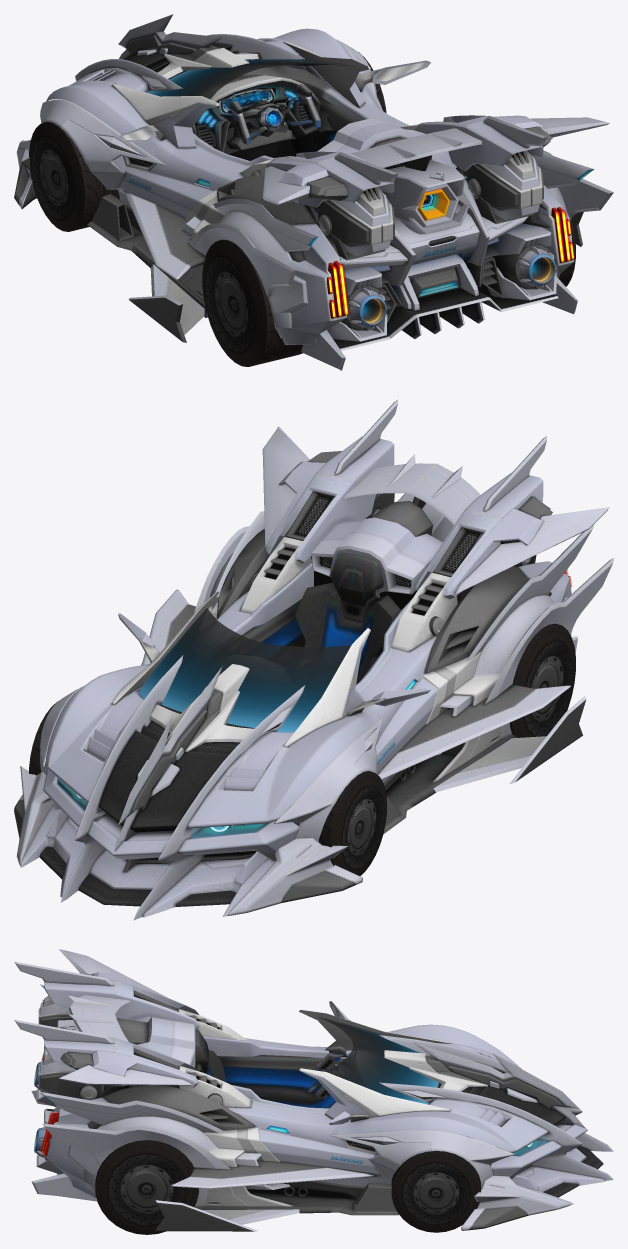
3 renders of one model, top to bottom at view 1: azimuth 30°, elevation 25°; view 2: azimuth 150°, elevation 25°; view 3: azimuth 270°, elevation 25°, orthographic. The views are drawn at different scales.
Parts seen in each view (by area): view 1: body, wheel_rl, wheel_fl; view 2: body, wheel_fl, wheel_rl; view 3: body, wheel_rr, wheel_fr.
Boxes of the visible parts, bbox=[...] form: body: bbox=[14, 14, 613, 370]; wheel_rl: bbox=[202, 239, 302, 366]; wheel_fl: bbox=[29, 121, 119, 231]; body: bbox=[14, 399, 613, 920]; wheel_fl: bbox=[319, 771, 386, 875]; wheel_rl: bbox=[509, 623, 575, 737]; body: bbox=[14, 949, 613, 1231]; wheel_rr: bbox=[95, 1140, 198, 1234]; wheel_fr: bbox=[391, 1150, 480, 1232].
Size of the model in its own units: 2.94 by 1.59 by 4.69.
4 materials, 4 textured.
